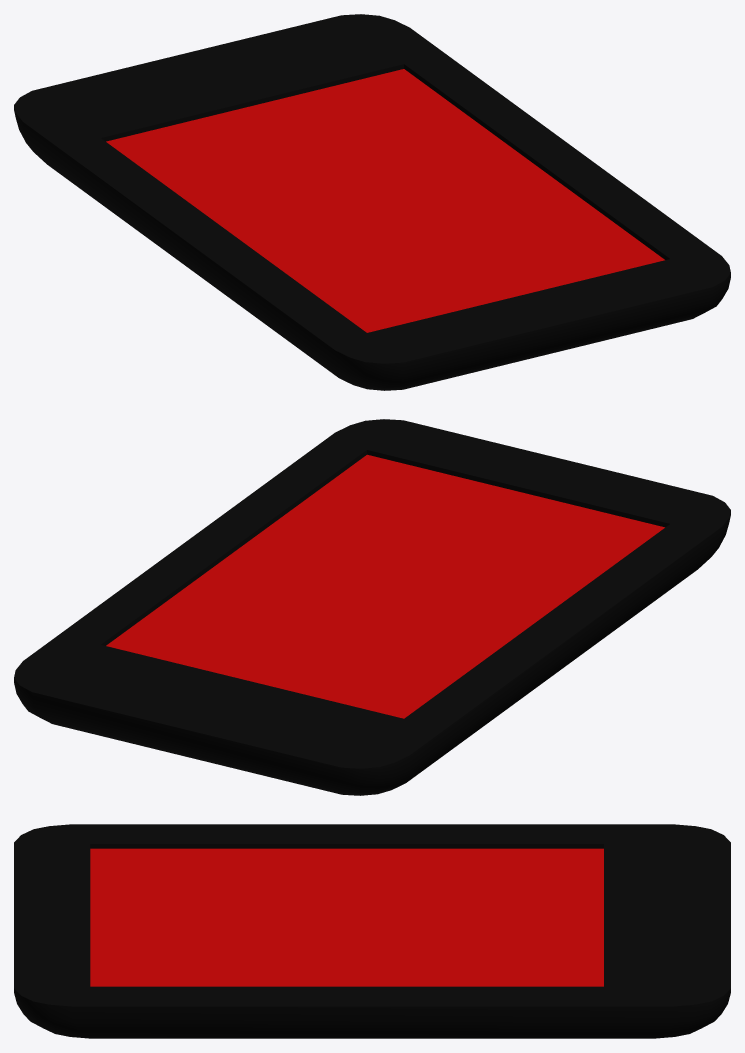
The model's file is Cellphone.fbx.
The picture shows the model from 3 angles, top to bottom: view 1: azimuth 30°, elevation 25°; view 2: azimuth 150°, elevation 25°; view 3: azimuth 270°, elevation 25°; orthographic projection. The views are drawn at different scales.
Parts seen in each view (by area): view 1: Cellphone; view 2: Cellphone; view 3: Cellphone.
Part boxes in pixels (x1,y1,x2,y2): Cellphone: [14, 14, 730, 390]; Cellphone: [14, 419, 730, 795]; Cellphone: [14, 824, 730, 1038].
Size of the model in its own units: 6.11 by 0.5827 by 10.16.
